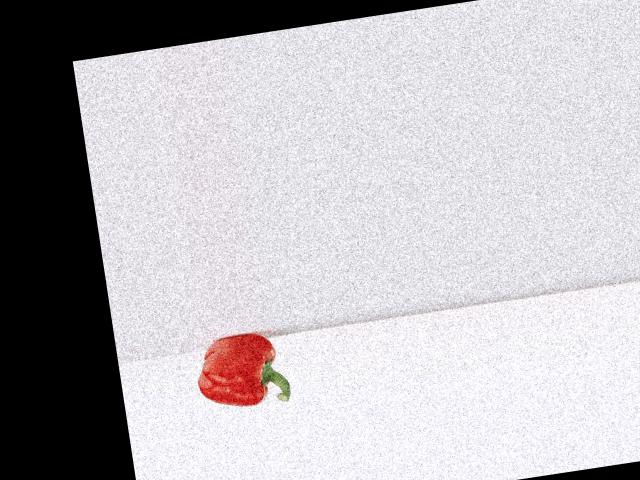bell_pepper: (187, 324, 301, 417)
